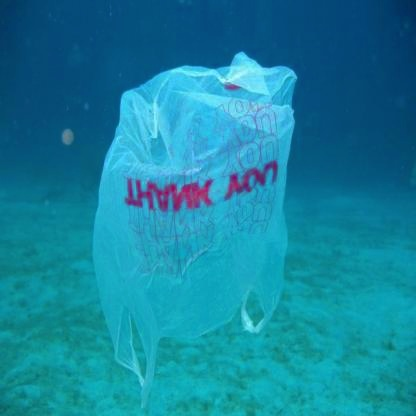pbag: (84, 46, 308, 416)
